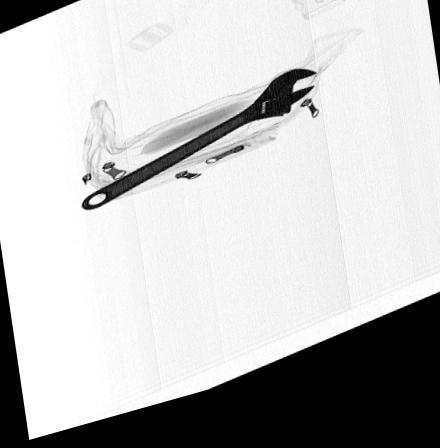Wrench: (81, 85, 318, 215)
